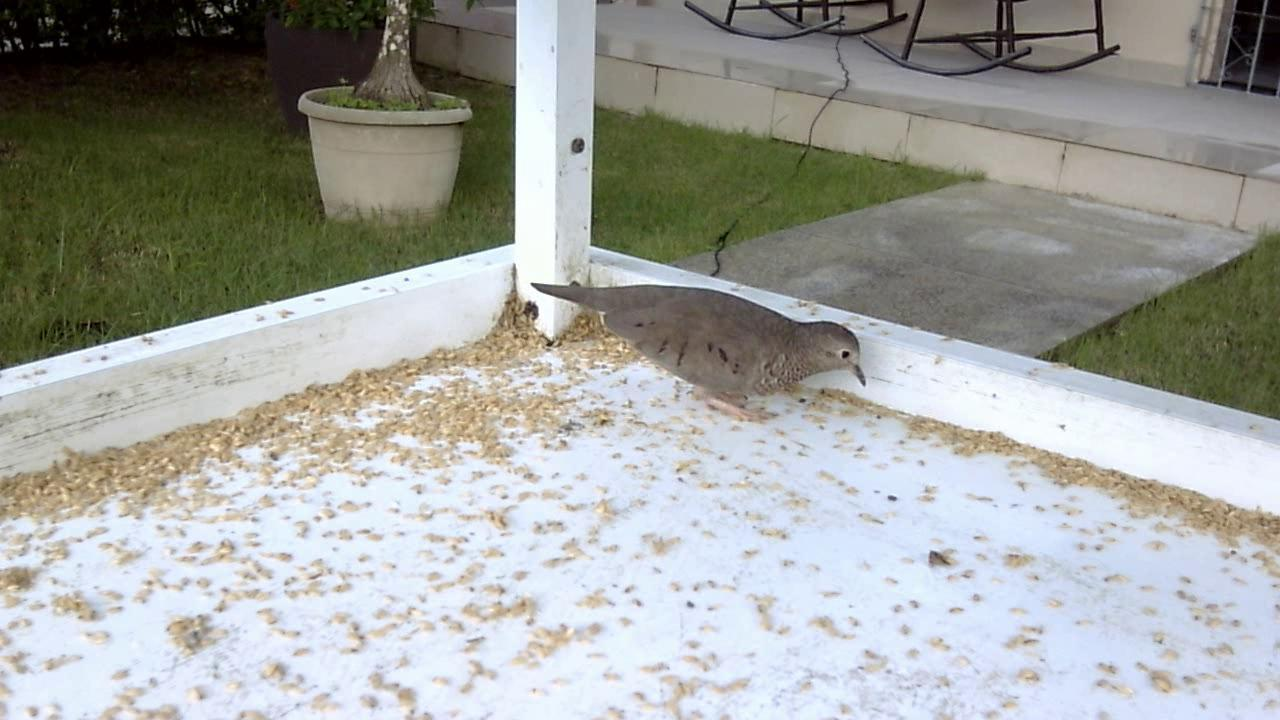rolinha: (517, 269, 870, 420)
